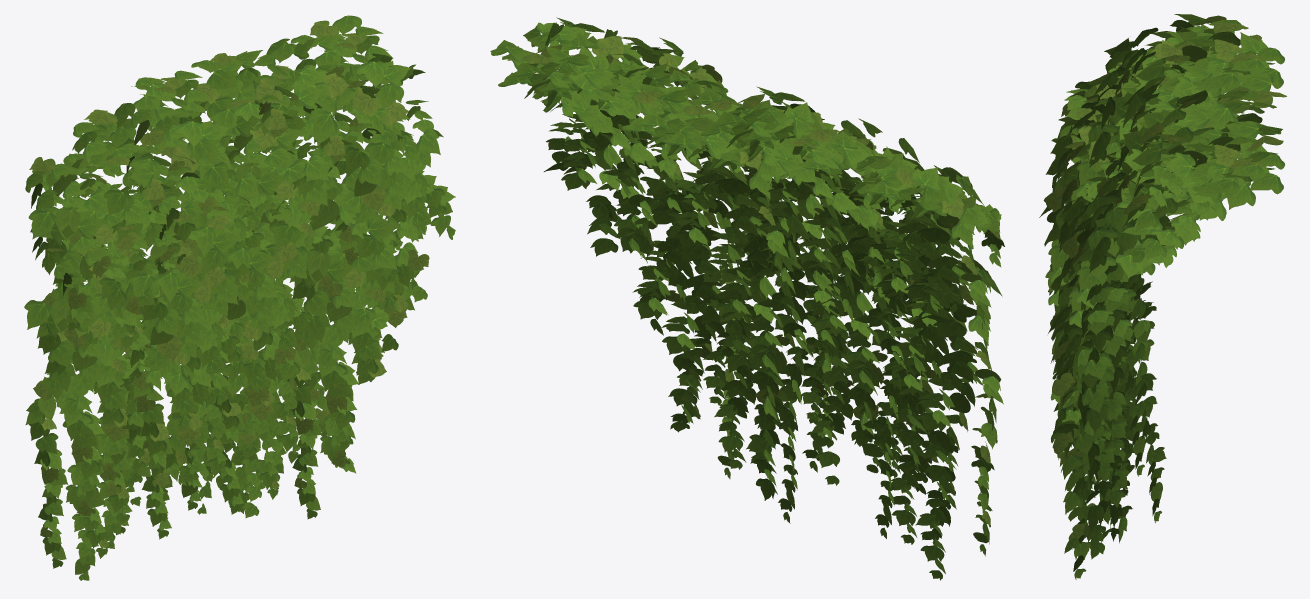
File: SM_Ivy_05.fbx
3 renders of one model, left to right at view 1: azimuth 30°, elevation 25°; view 2: azimuth 150°, elevation 25°; view 3: azimuth 270°, elevation 25°, orthographic. The views are drawn at different scales.
Parts seen in each view (by area): view 1: SM_Ivy_05_LOD0; view 2: SM_Ivy_05_LOD0; view 3: SM_Ivy_05_LOD0.
Part boxes in pixels (x1,y1,x2,y2): SM_Ivy_05_LOD0: (24,15,455,580); SM_Ivy_05_LOD0: (490,17,1004,580); SM_Ivy_05_LOD0: (1039,14,1286,579).
Size of the model in its own units: 274 by 120 by 275.
